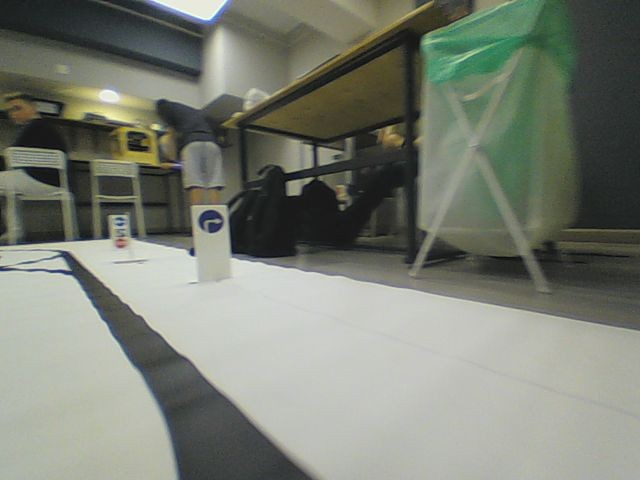Right: (196, 208, 225, 235)
